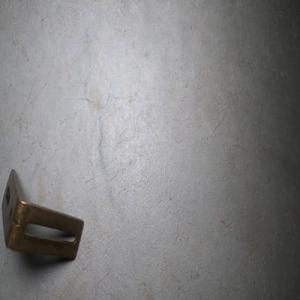MetalPart: (0, 167, 85, 261)
